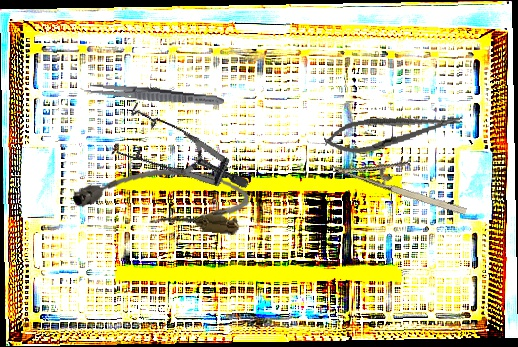Cannula: (69, 157, 252, 237)
Dressing Forceps: (83, 81, 225, 109)
Needle Holder: (328, 138, 476, 219), (322, 104, 465, 159)
Speculum: (95, 75, 252, 240)
